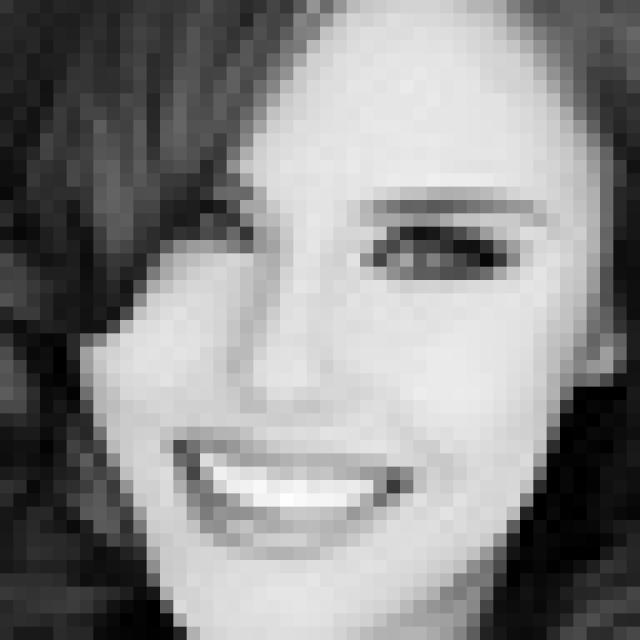happy: (156, 143, 565, 566)
